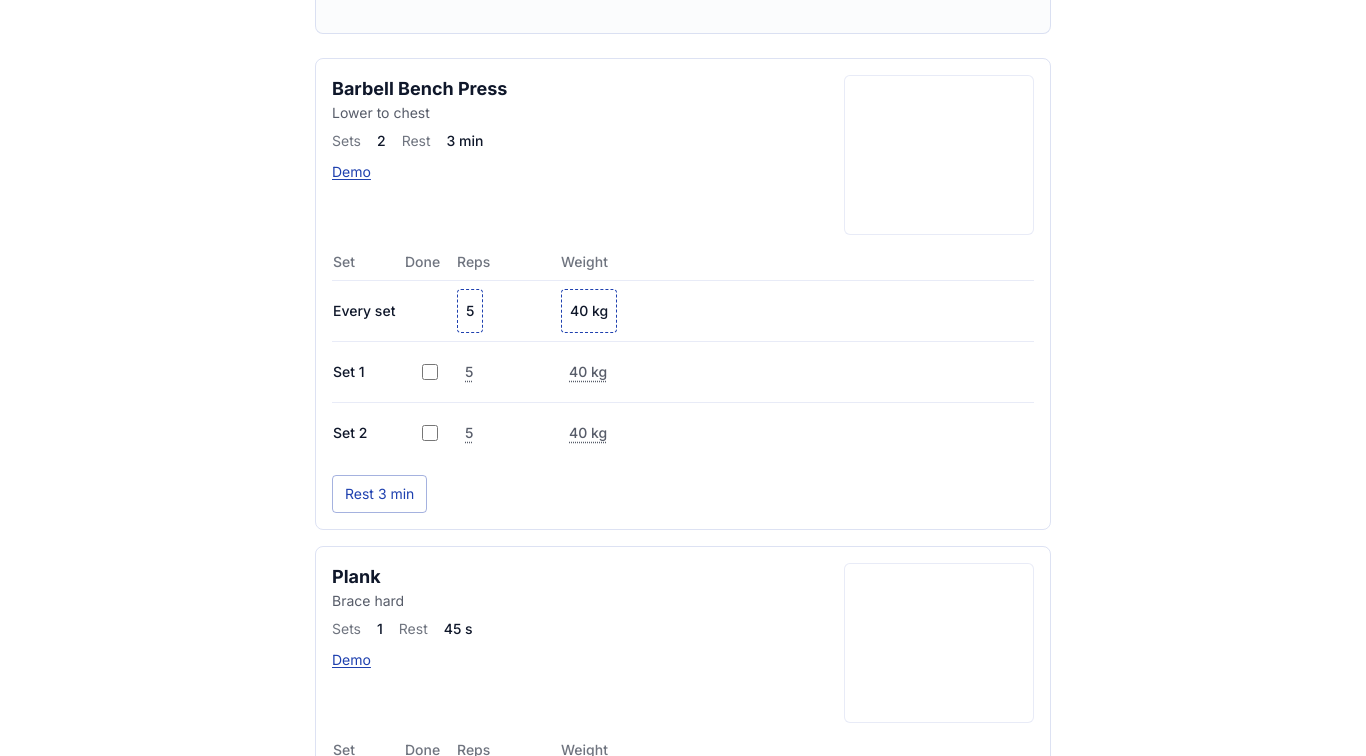
Test: WorkoutApp › should announce that the rest is complete
The width and height of the screenshot is (1366, 756).
(page scrolled)
Click the checkbox named "Barbell Bench Press set 1" at (430, 372), box 422,364 -> 438,380
Wait 180000 ms
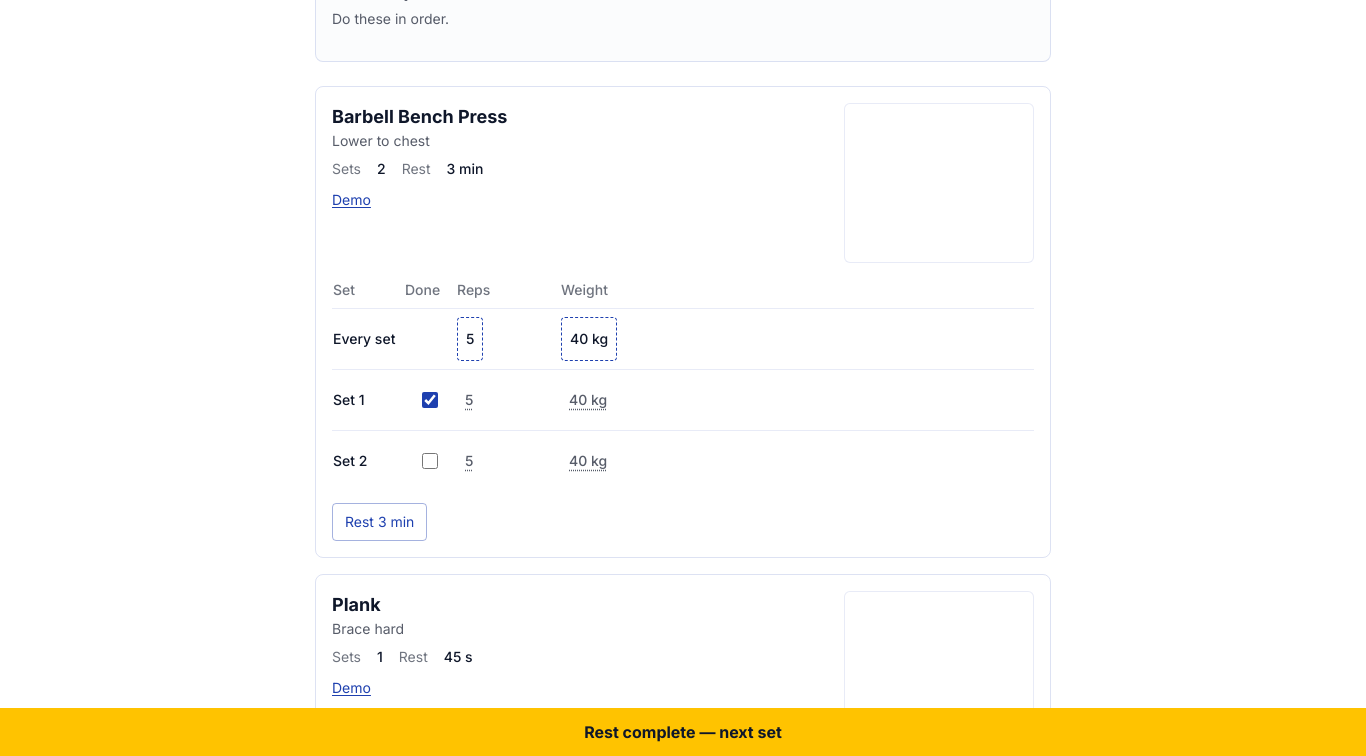
Result: the message named "Rest timer updates" reads "Rest complete — next set" at 584,722 -> 782,742
